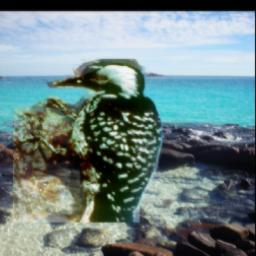Woodpecker: (13, 60, 162, 223)
